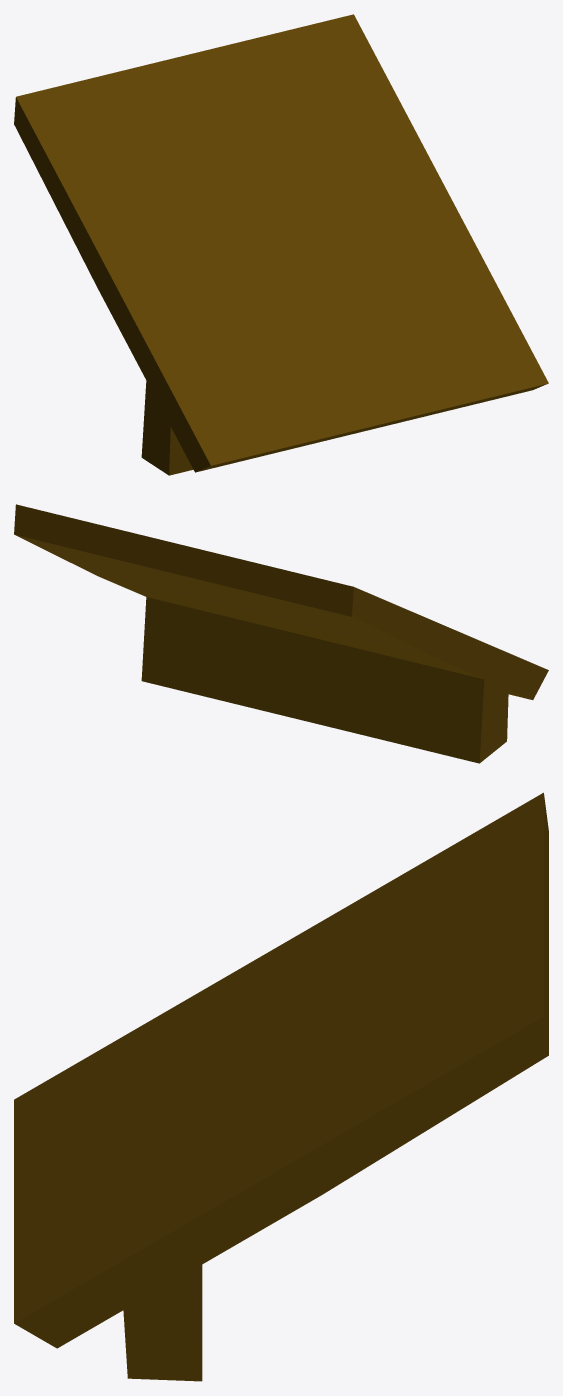
File: Wall Roof.fbx
3 views of the same model, one above another, from view 1: azimuth 30°, elevation 25°; view 2: azimuth 150°, elevation 25°; view 3: azimuth 270°, elevation 25° (orthographic). The views are drawn at different scales.
Parts seen in each view (by area): view 1: Cube; view 2: Cube; view 3: Cube.
Boxes of the visible parts, left/top/right/bottom form: Cube: left=14, top=14, right=548, bottom=475; Cube: left=14, top=504, right=548, bottom=763; Cube: left=14, top=792, right=548, bottom=1381.
Bounding box in the file's own units: 200 × 152 × 202.
